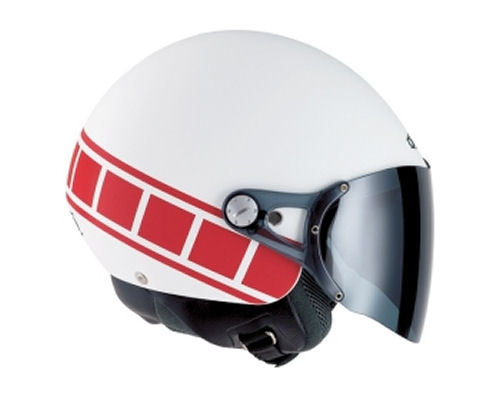helmet: (71, 51, 441, 328)
